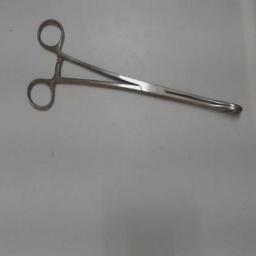Sponge Forceps: (20, 16, 248, 124)
